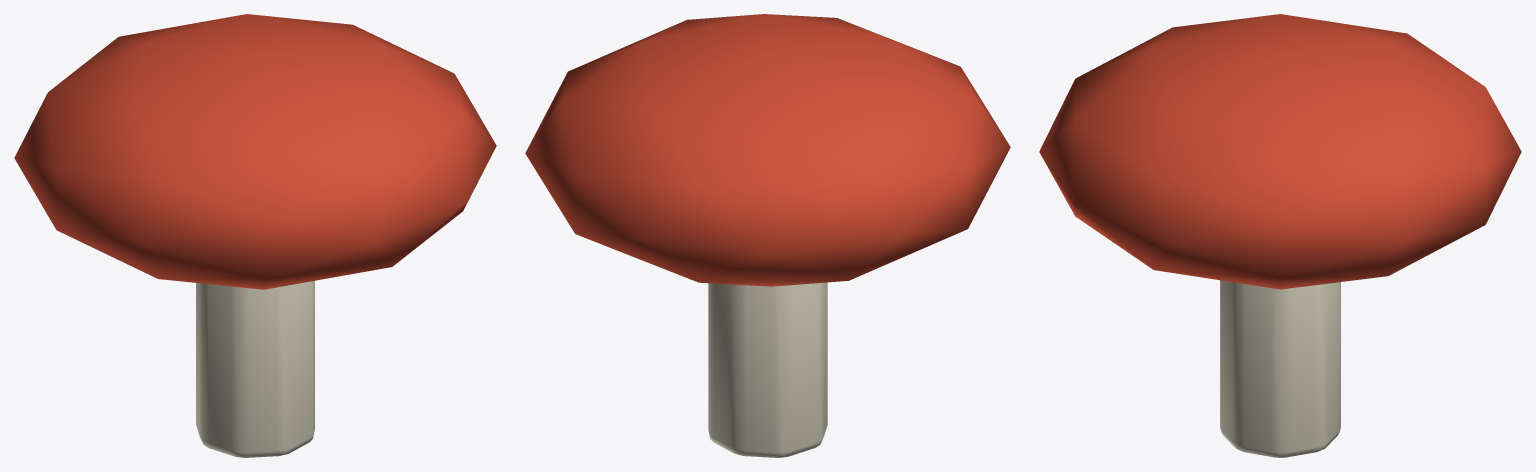
The model's file is mushroom.glb.
3 renders of one model, left to right at view 1: azimuth 30°, elevation 25°; view 2: azimuth 150°, elevation 25°; view 3: azimuth 270°, elevation 25°, orthographic.
Parts seen in each view (by area): view 1: mushroom_cap, mushroom_stem; view 2: mushroom_cap, mushroom_stem; view 3: mushroom_cap, mushroom_stem.
Part boxes in pixels (x1=…): mushroom_cap: x1=14, y1=14, x2=496, y2=289; mushroom_stem: x1=196, y1=281, x2=314, y2=457; mushroom_cap: x1=525, y1=14, x2=1010, y2=286; mushroom_stem: x1=708, y1=282, x2=827, y2=457; mushroom_cap: x1=1039, y1=14, x2=1521, y2=289; mushroom_stem: x1=1220, y1=280, x2=1340, y2=457.
Size of the model in its own units: 0.9511 by 0.87 by 1.
